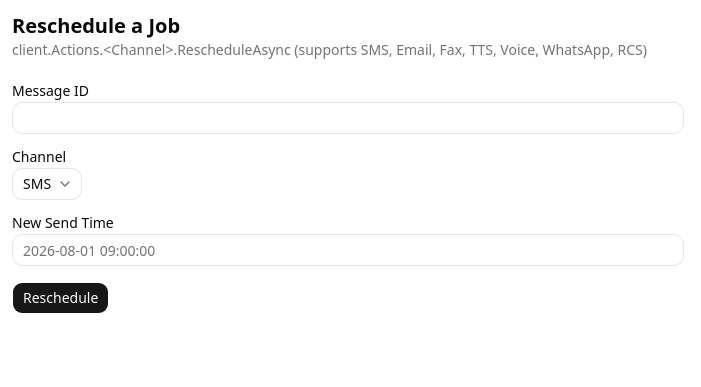
Test case: ReschedulePage › offers all 7 channels, including WhatsApp and RCS
The width and height of the screenshot is (701, 387).
Step 1. Click the dropdown named "Channel" → (47, 184), box [12,168,82,200]
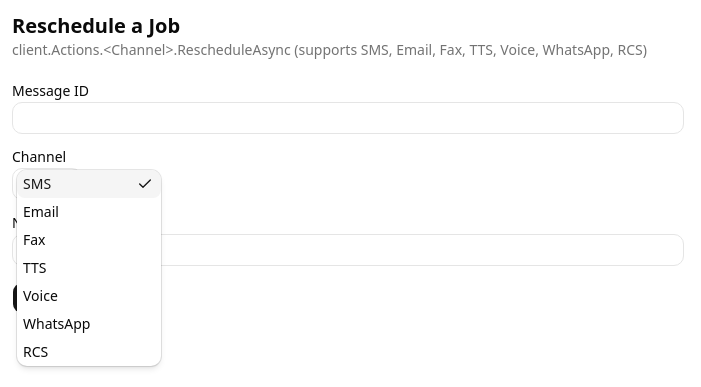
expect the option "SMS" is shown: met, box [17,170,161,198]
expect the option "Email" is shown: met, box [23,202,59,221]
expect the option "Fax" is shown: met, box [23,230,46,249]
